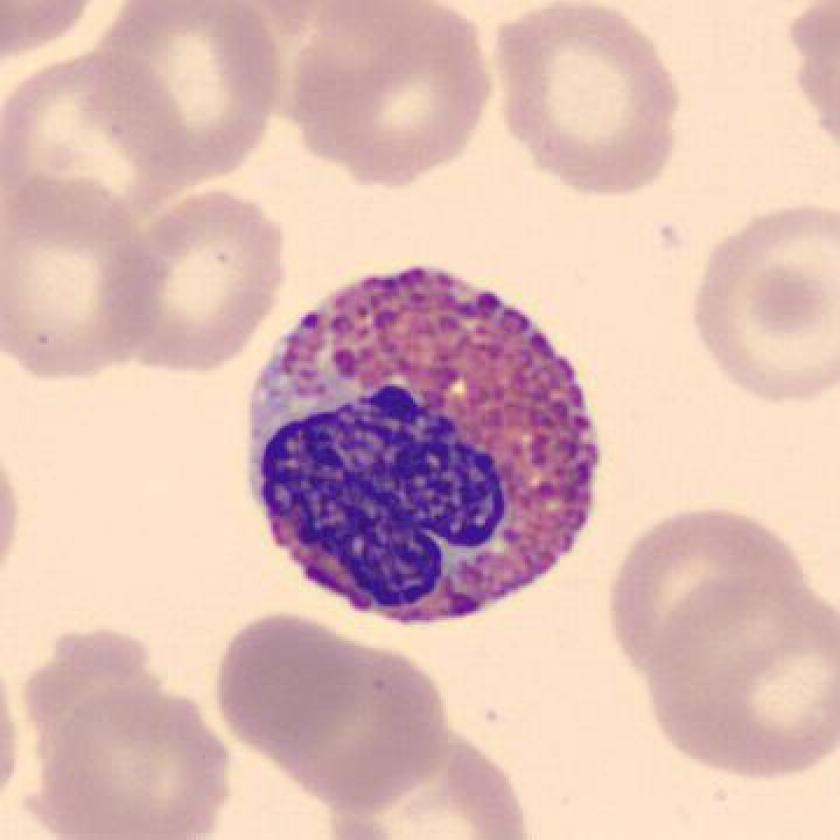eosinophil: (239, 260, 610, 633)
